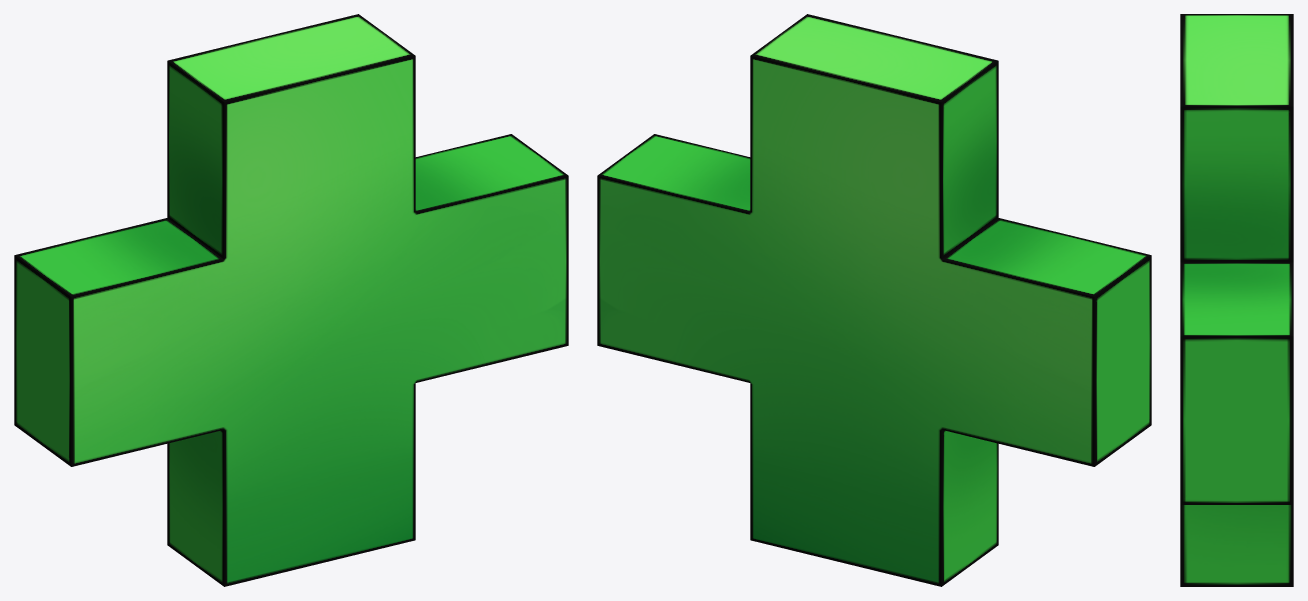
File: healthPickup.fbx
The picture shows the model from 3 angles, left to right: view 1: azimuth 30°, elevation 25°; view 2: azimuth 150°, elevation 25°; view 3: azimuth 270°, elevation 25°; orthographic projection.
Visible parts, largest first — view 1: pCube1; view 2: pCube1; view 3: pCube1.
Boxes of the visible parts, bbox=[...] form: pCube1: bbox=[14, 14, 568, 586]; pCube1: bbox=[597, 14, 1151, 586]; pCube1: bbox=[1180, 14, 1293, 586].
Bounding box in the file's own units: 2.1 × 0.4167 × 1.95.
Materials: 1 (1 with a texture image).
